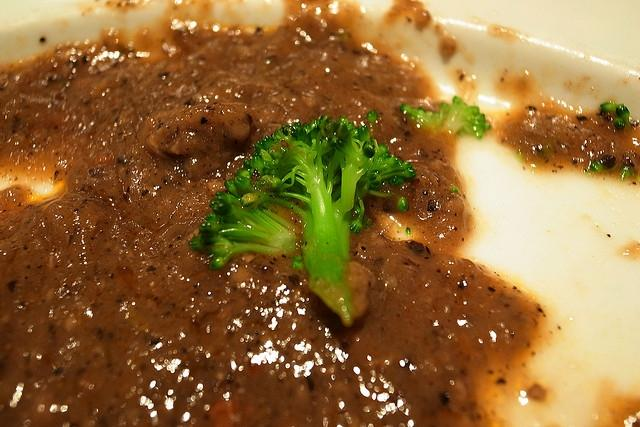broccoli: (234, 115, 416, 327), (400, 96, 490, 138), (616, 106, 632, 131), (591, 162, 603, 174)
